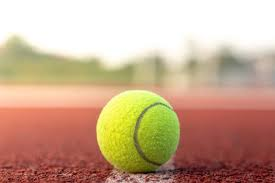tennis_ball: (94, 88, 180, 174)
